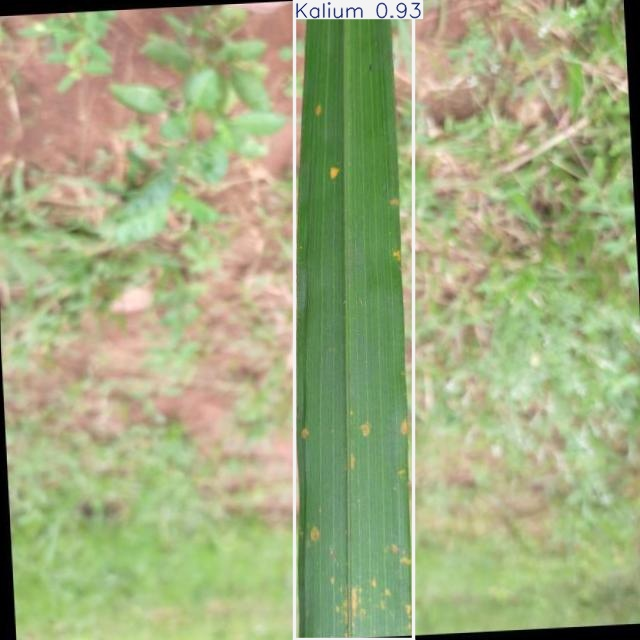Kalium: (294, 0, 414, 640)
